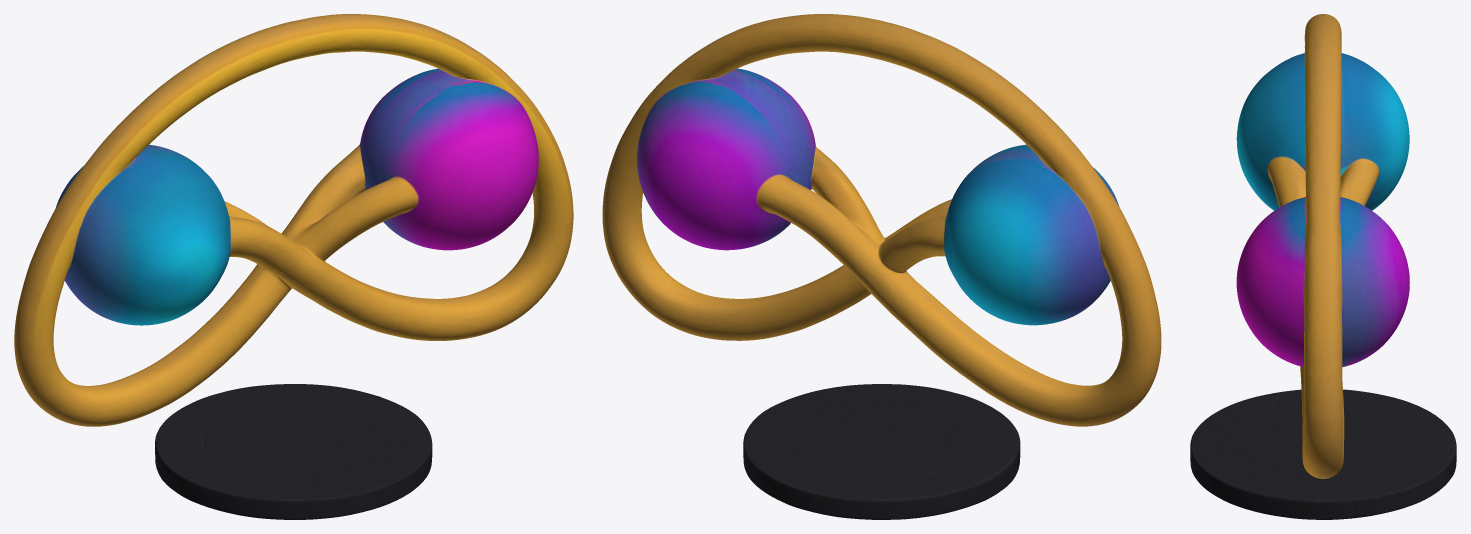
3 renders of one model, left to right at view 1: azimuth 30°, elevation 25°; view 2: azimuth 150°, elevation 25°; view 3: azimuth 270°, elevation 25°, orthographic. The views are drawn at different scales.
Bounding box in the file's own units: 1.9 × 1.44 × 0.8267.
Materials: 1 (1 with a texture image).
